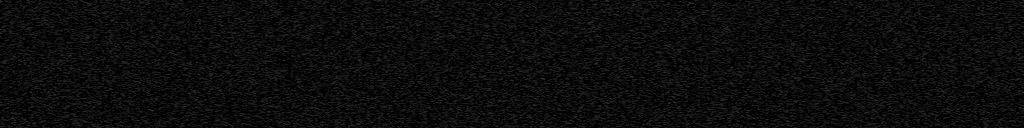wv_am: (435, 0, 441, 128), (407, 0, 413, 128), (391, 0, 396, 128)
wv_cw: (620, 0, 625, 128)
wv_lsb: (383, 12, 389, 128), (384, 1, 389, 11)
wv_usb: (397, 16, 403, 127), (374, 1, 379, 128), (502, 62, 506, 99), (502, 33, 506, 59), (397, 1, 402, 15), (502, 118, 506, 128), (502, 1, 506, 11), (502, 110, 506, 117), (502, 12, 506, 16)
wv_wbfm: (571, 0, 606, 128)
